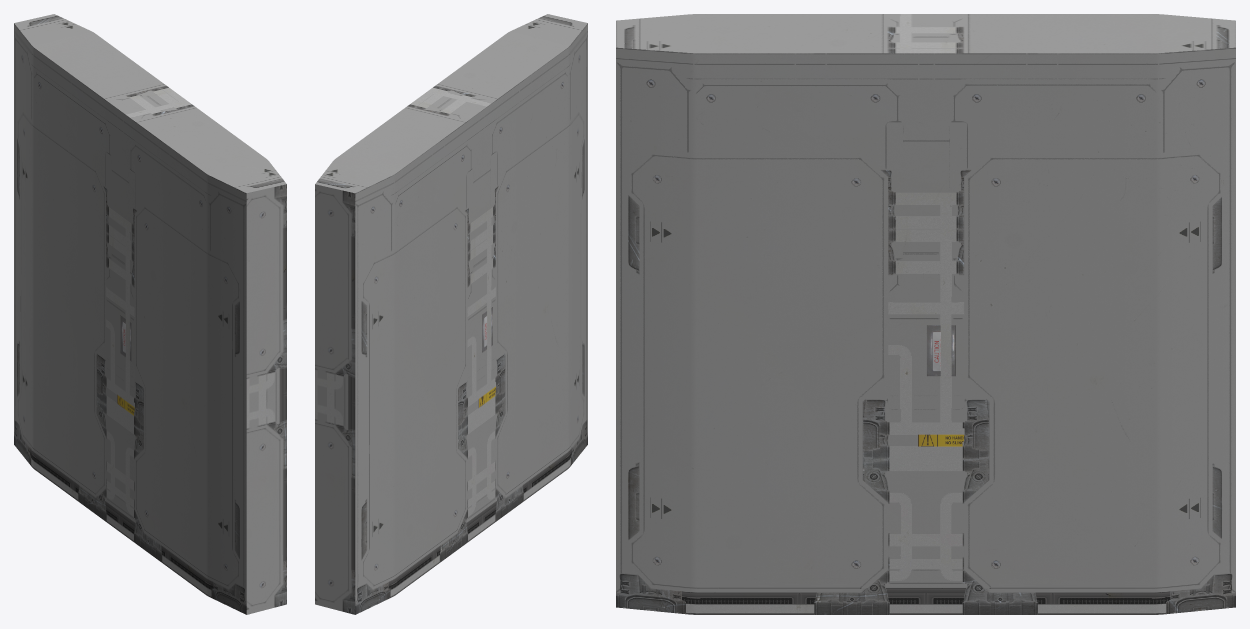
The model's file is SM_WallType1c.fbx.
The picture shows the model from 3 angles, left to right: view 1: azimuth 30°, elevation 25°; view 2: azimuth 150°, elevation 25°; view 3: azimuth 270°, elevation 25°; orthographic projection. The views are drawn at different scales.
Visible parts, largest first — view 1: SM_WallType1c_LOD0; view 2: SM_WallType1c_LOD0; view 3: SM_WallType1c_LOD0.
Part boxes in pixels (bbox=[...]): SM_WallType1c_LOD0: bbox=[14, 14, 286, 614]; SM_WallType1c_LOD0: bbox=[315, 14, 587, 614]; SM_WallType1c_LOD0: bbox=[616, 14, 1235, 614].
Bounding box in the file's own units: 60 × 400 × 400.
Materials: 1 (1 with a texture image).
